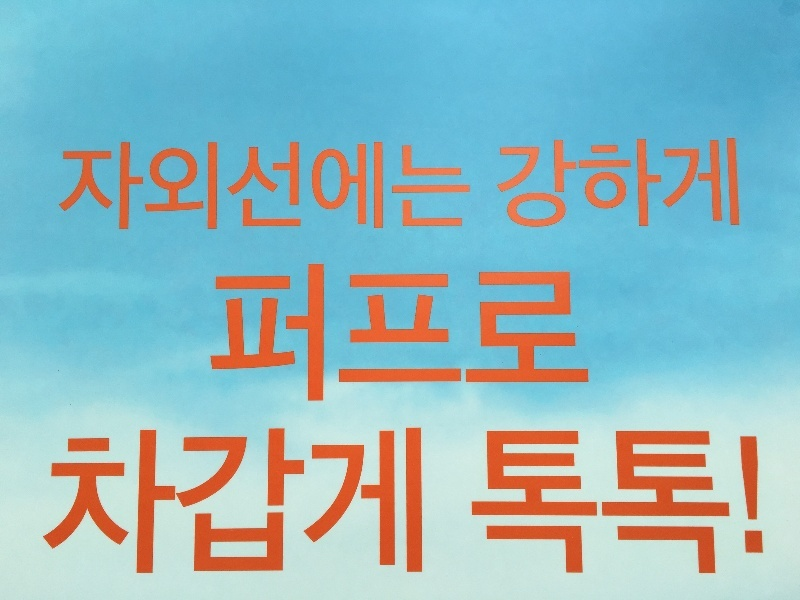text: (65, 426, 80, 580), (81, 426, 96, 580), (97, 426, 112, 580), (113, 426, 128, 580), (129, 426, 144, 580), (145, 426, 160, 580), (161, 426, 176, 580), (177, 426, 192, 580), (193, 426, 208, 580), (209, 426, 224, 580), (225, 426, 240, 580), (241, 426, 256, 580), (257, 426, 272, 580), (273, 426, 288, 580), (289, 426, 304, 580), (305, 426, 320, 580), (321, 426, 336, 580), (337, 426, 352, 580), (353, 426, 368, 580), (369, 426, 384, 580), (385, 426, 400, 580), (401, 426, 416, 580), (481, 428, 496, 578), (497, 428, 512, 578), (513, 428, 528, 578), (529, 428, 544, 578), (545, 428, 560, 578), (561, 428, 576, 578), (577, 428, 592, 578), (593, 428, 608, 578), (609, 428, 624, 578), (625, 428, 640, 578), (641, 428, 656, 578), (657, 428, 672, 578), (673, 428, 688, 578), (689, 428, 704, 578), (705, 428, 720, 578), (721, 428, 736, 578), (737, 428, 752, 578), (577, 263, 593, 403), (225, 263, 240, 403), (241, 263, 256, 403), (257, 263, 272, 403), (273, 263, 288, 403), (289, 263, 304, 403), (305, 263, 320, 403), (321, 263, 336, 403), (337, 263, 352, 403), (353, 263, 368, 403), (369, 263, 384, 403), (385, 263, 400, 403), (401, 263, 416, 403), (417, 263, 432, 403), (433, 263, 448, 403), (449, 263, 464, 403), (465, 263, 480, 403), (481, 263, 496, 403), (497, 263, 512, 403), (513, 263, 528, 403), (529, 263, 544, 403), (545, 263, 560, 403), (561, 263, 576, 403), (753, 428, 766, 578), (52, 426, 64, 580), (497, 138, 512, 232), (513, 138, 528, 232), (529, 138, 544, 232), (545, 138, 560, 232), (561, 138, 576, 232), (577, 138, 592, 232), (593, 138, 608, 232), (609, 138, 624, 232), (625, 138, 640, 232), (641, 138, 656, 232), (657, 138, 672, 232), (673, 138, 688, 232), (689, 138, 704, 232), (705, 138, 720, 232), (721, 138, 736, 232), (65, 141, 80, 232), (81, 141, 96, 232), (97, 141, 112, 232), (113, 141, 128, 232), (129, 141, 144, 232), (145, 141, 160, 232), (161, 141, 176, 232), (177, 141, 192, 232), (193, 141, 208, 232), (209, 141, 224, 232), (225, 141, 240, 232), (241, 141, 256, 232), (257, 141, 272, 232), (273, 141, 288, 232), (289, 141, 304, 232), (305, 141, 320, 232), (321, 141, 336, 232), (337, 141, 352, 232), (353, 141, 368, 232), (369, 141, 384, 232), (385, 141, 400, 232), (401, 141, 416, 232), (417, 141, 432, 232), (433, 141, 448, 232), (449, 141, 464, 232), (215, 263, 224, 403), (417, 426, 425, 580), (465, 141, 474, 232), (737, 138, 743, 232), (59, 141, 64, 232), (479, 428, 480, 578)
